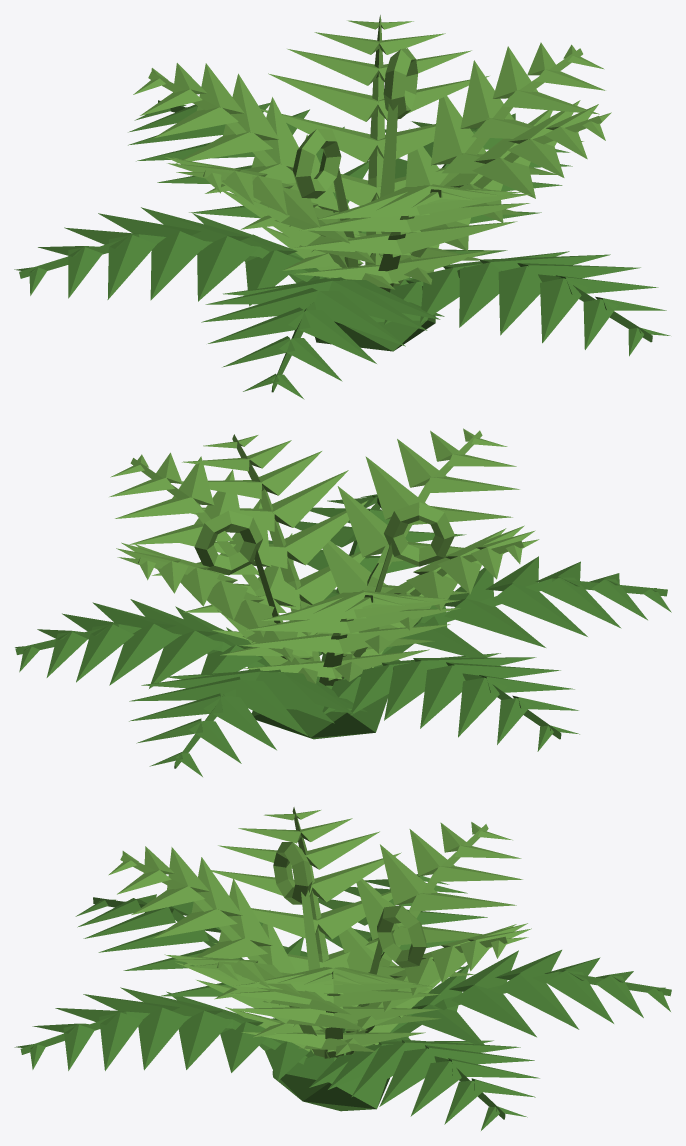
Rendered from bush-fern.glb.
3 views of the same model, one above another, from view 1: azimuth 30°, elevation 25°; view 2: azimuth 150°, elevation 25°; view 3: azimuth 270°, elevation 25° (orthographic). The views are drawn at different scales.
Parts seen in each view (by area): view 1: BushFern_Fronds, BushFern_FrondsDark; view 2: BushFern_Fronds, BushFern_FrondsDark; view 3: BushFern_Fronds, BushFern_FrondsDark.
Boxes of the visible parts, bbox=[...] form: BushFern_Fronds: bbox=[133, 15, 611, 292]; BushFern_FrondsDark: bbox=[14, 100, 670, 399]; BushFern_Fronds: bbox=[109, 428, 539, 685]; BushFern_FrondsDark: bbox=[15, 494, 671, 776]; BushFern_Fronds: bbox=[108, 807, 531, 1058]; BushFern_FrondsDark: bbox=[14, 874, 671, 1130].
Bounding box in the file's own units: 4.22 × 1.85 × 4.76.
